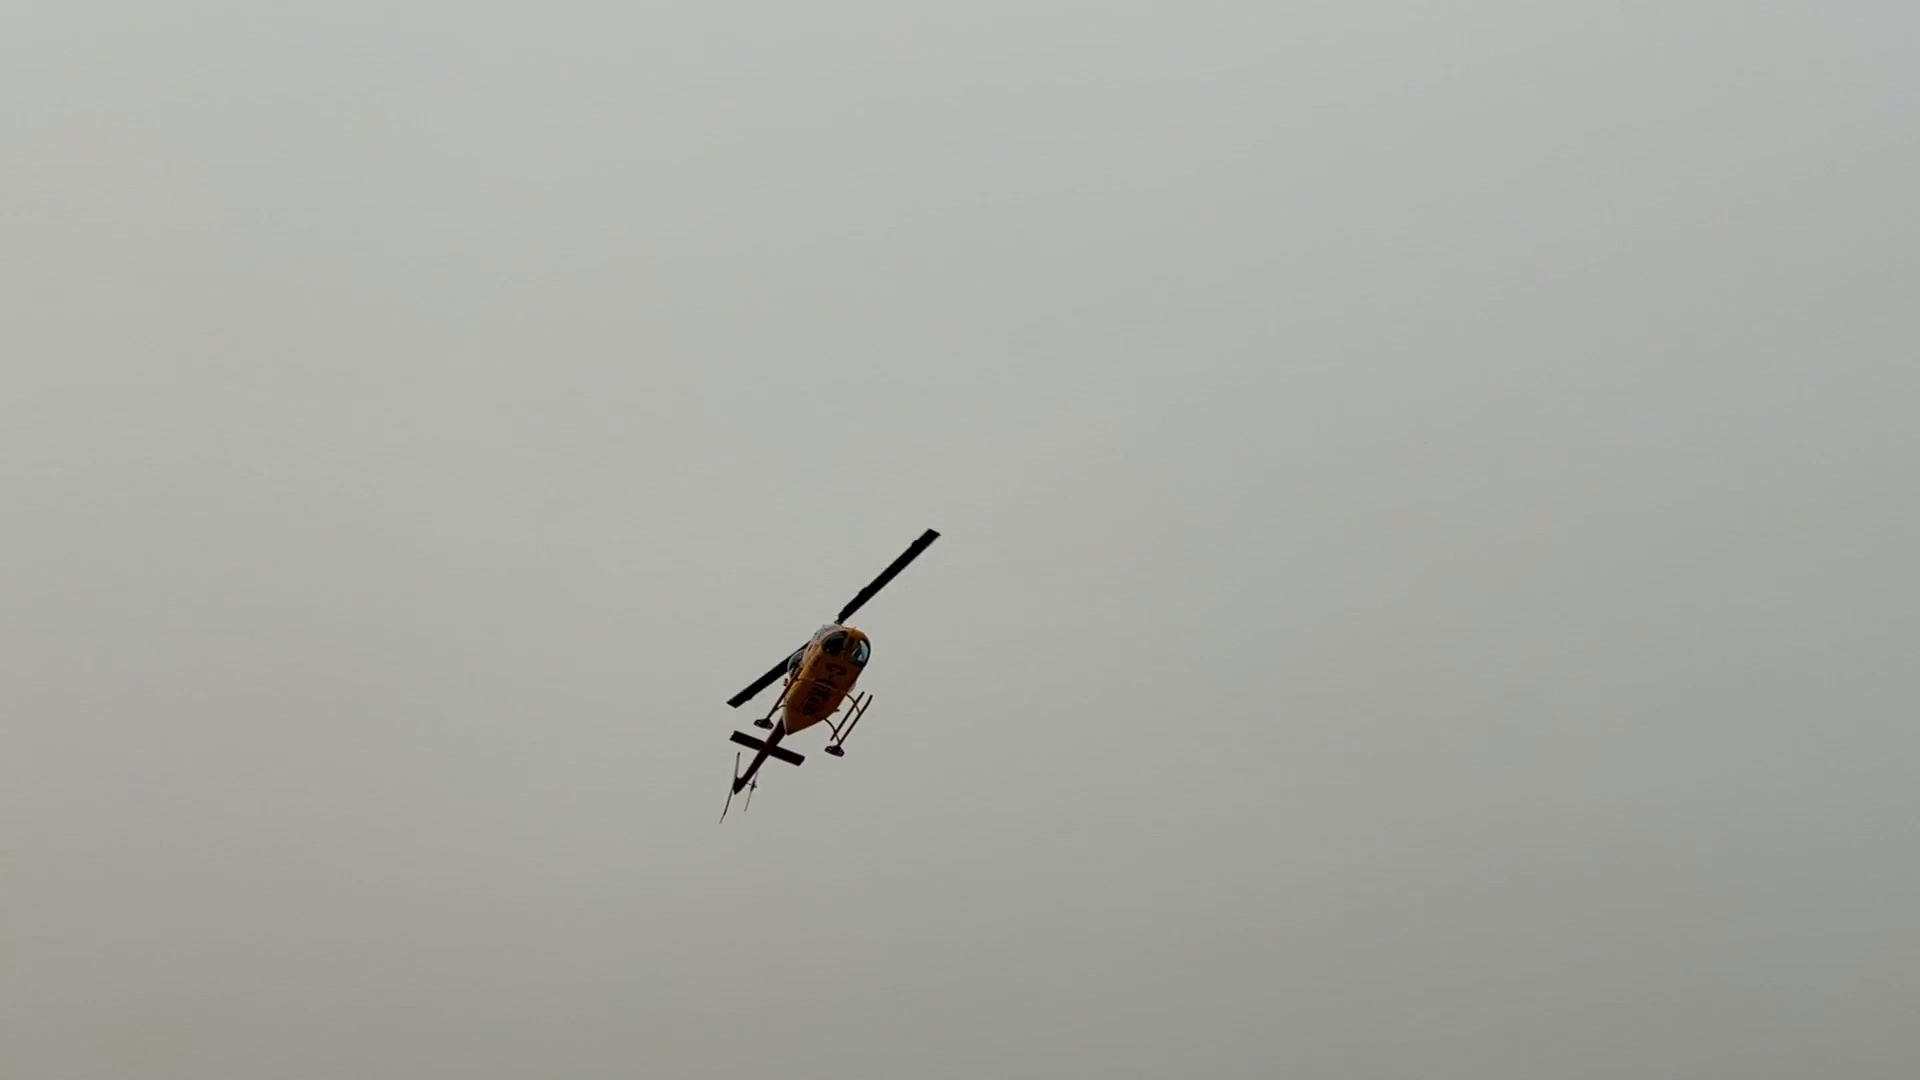heli: (723, 522, 942, 791)
